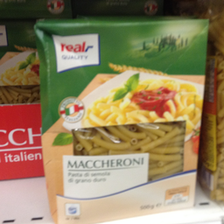pasta: (33, 19, 210, 224)
